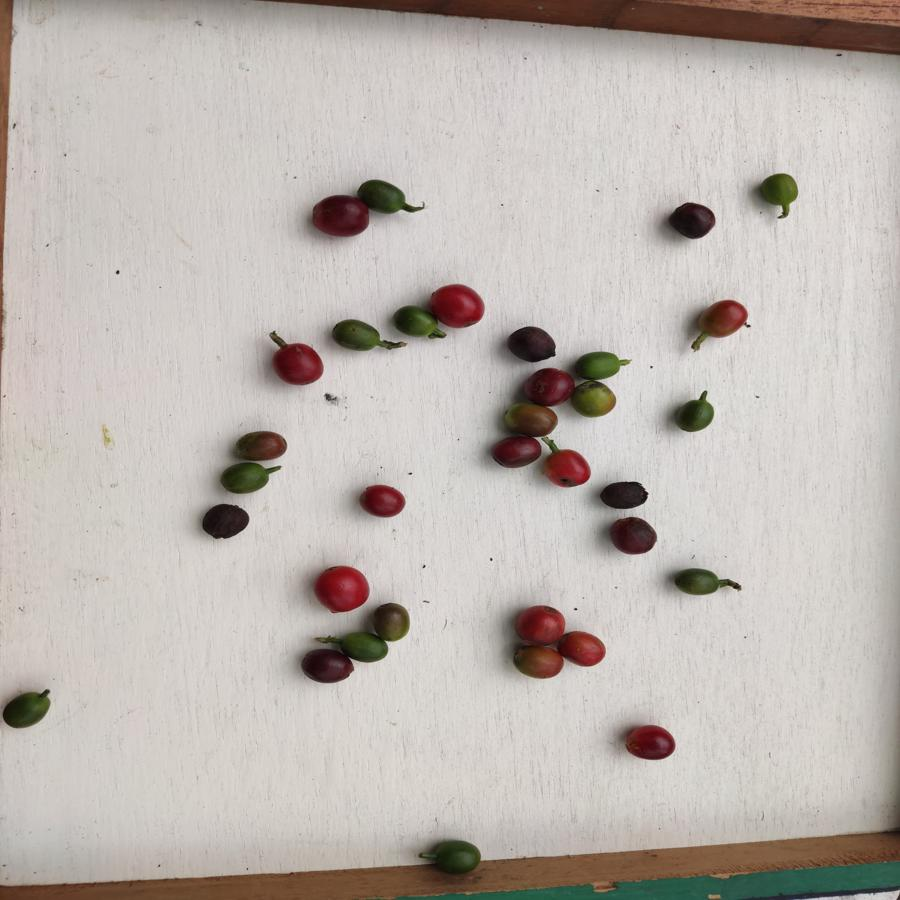Inmaduro: (1, 689, 52, 732), (423, 840, 486, 873), (217, 461, 276, 495), (331, 318, 384, 355), (674, 565, 725, 600), (575, 347, 629, 380), (673, 393, 716, 434), (760, 171, 802, 212), (357, 179, 409, 211), (391, 303, 433, 340), (338, 631, 388, 661)
Maduro: (311, 564, 372, 612), (431, 284, 490, 328), (269, 343, 327, 386), (542, 445, 592, 492), (627, 722, 680, 764), (516, 604, 566, 642), (361, 482, 408, 522), (562, 629, 609, 669)
Pinton: (506, 401, 559, 438), (510, 646, 562, 682), (572, 380, 622, 417), (232, 429, 288, 461)
Sobremaduro: (313, 197, 368, 236), (609, 515, 658, 556), (506, 324, 557, 363), (198, 503, 252, 539), (669, 201, 715, 241), (522, 367, 572, 402), (301, 649, 352, 683), (493, 438, 541, 469), (601, 481, 651, 508)
